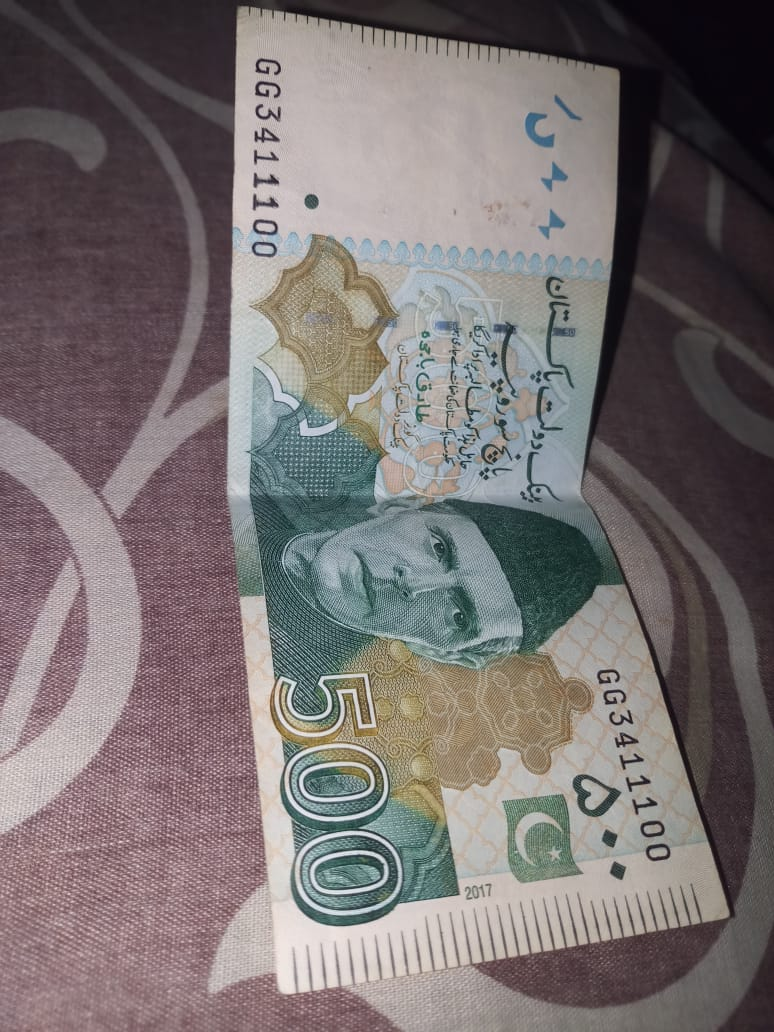500 rupee: (216, 18, 727, 981)
